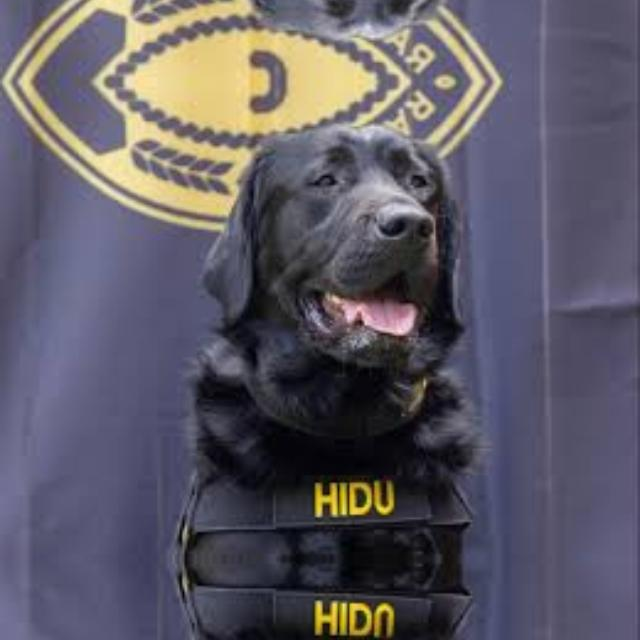dog: (190, 119, 464, 559), (189, 558, 464, 640), (189, 0, 464, 43)
